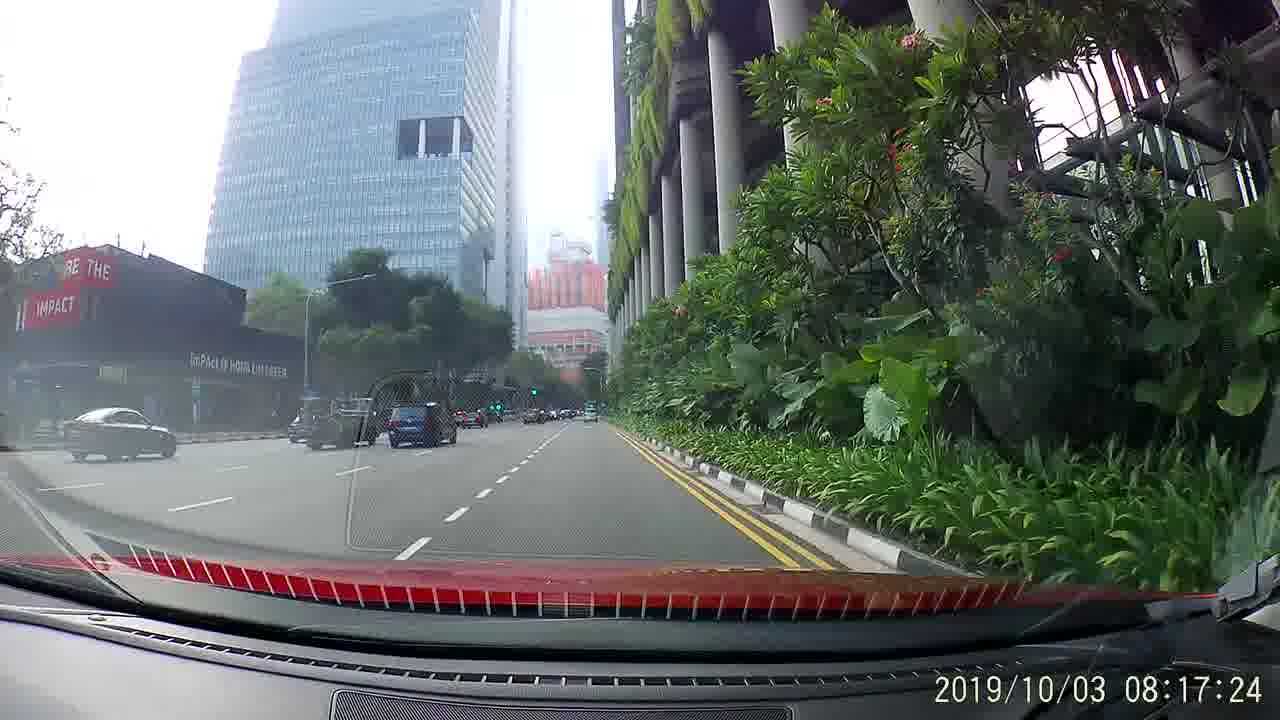car: (55, 404, 178, 464), (387, 405, 459, 448), (459, 405, 487, 430)
